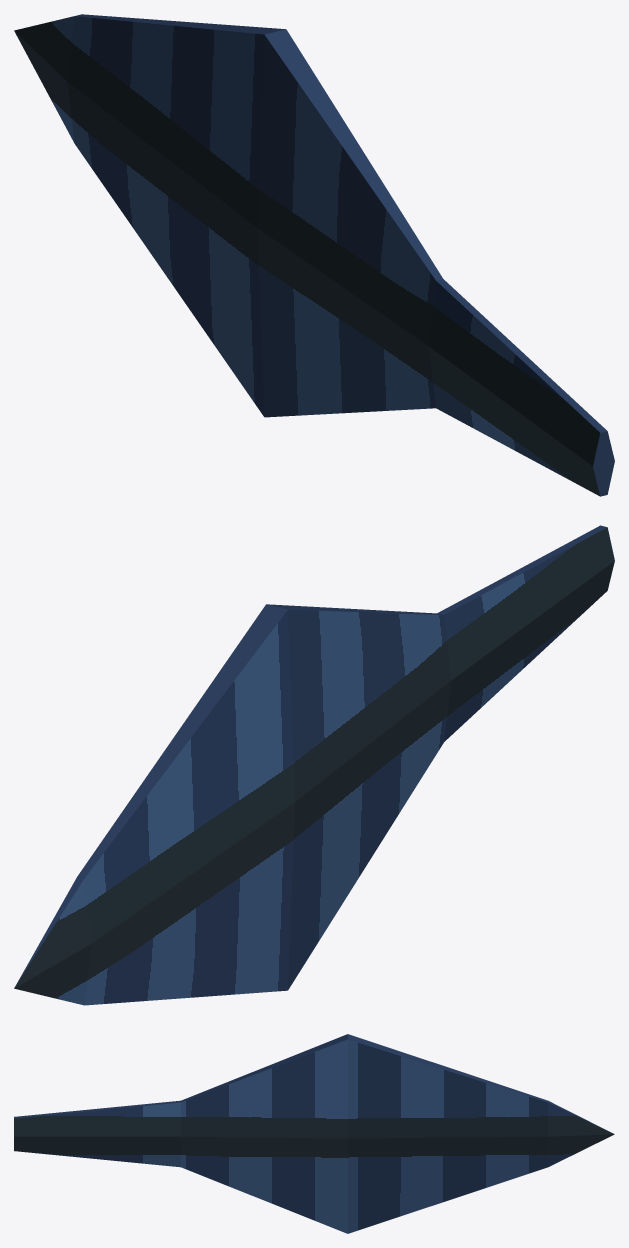
The model's file is feather_projectile.gltf.
3 views of the same model, one above another, from view 1: azimuth 30°, elevation 25°; view 2: azimuth 150°, elevation 25°; view 3: azimuth 270°, elevation 25° (orthographic). The views are drawn at different scales.
Parts seen in each view (by area): view 1: feather; view 2: feather; view 3: feather.
Boxes of the visible parts, left/top/right/bottom form: feather: left=14, top=14, right=614, bottom=496; feather: left=14, top=525, right=614, bottom=1005; feather: left=14, top=1034, right=614, bottom=1233.
Bounding box in the file's own units: 0.0156 × 0.1562 × 0.4375.
1 material, 1 textured.
